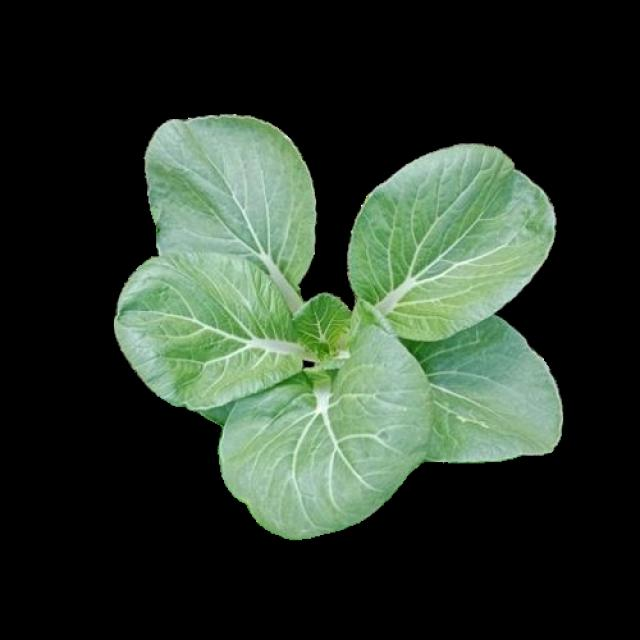healthy: (124, 137, 572, 553)
mature: (114, 119, 562, 535)
